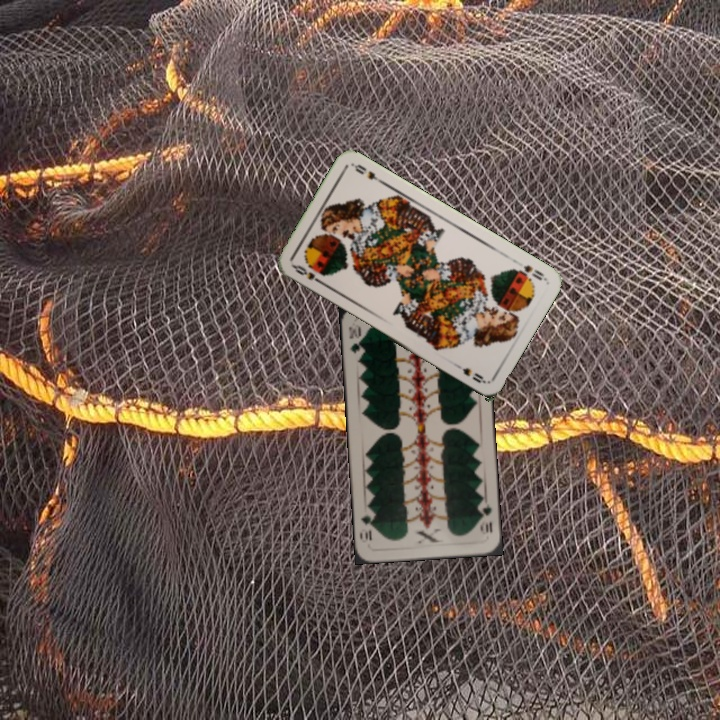G10: (476, 499, 495, 535), (345, 320, 364, 356)
SO: (289, 261, 326, 287), (515, 261, 548, 283)
